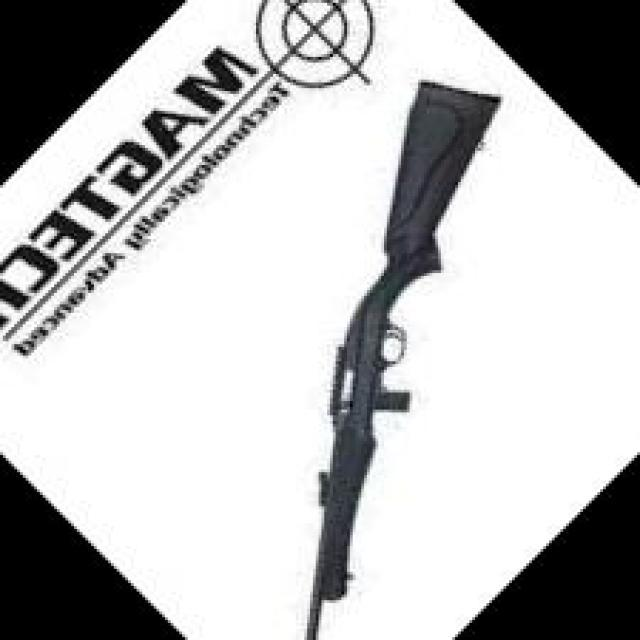weapon: (304, 79, 503, 640)
